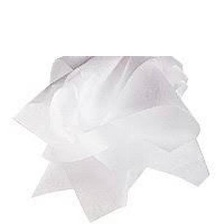tissue: (8, 56, 212, 224)
